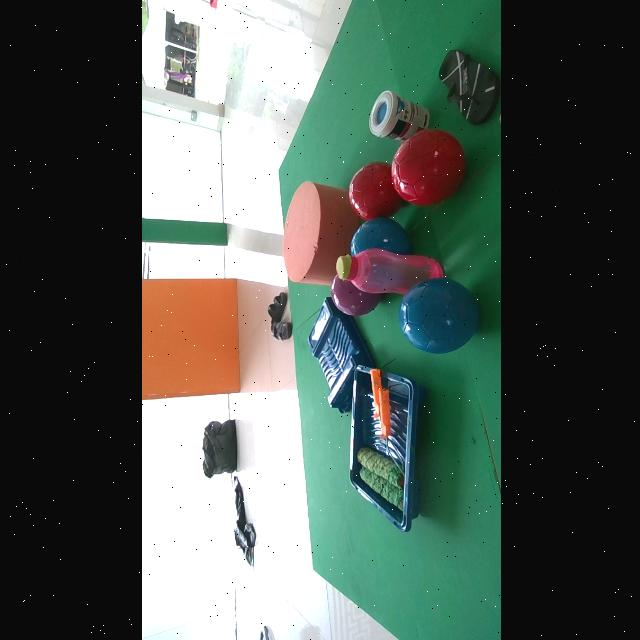B: (398, 278, 478, 354), (349, 217, 409, 256)
P: (329, 276, 380, 315)
R: (390, 128, 464, 207), (348, 162, 402, 220)
